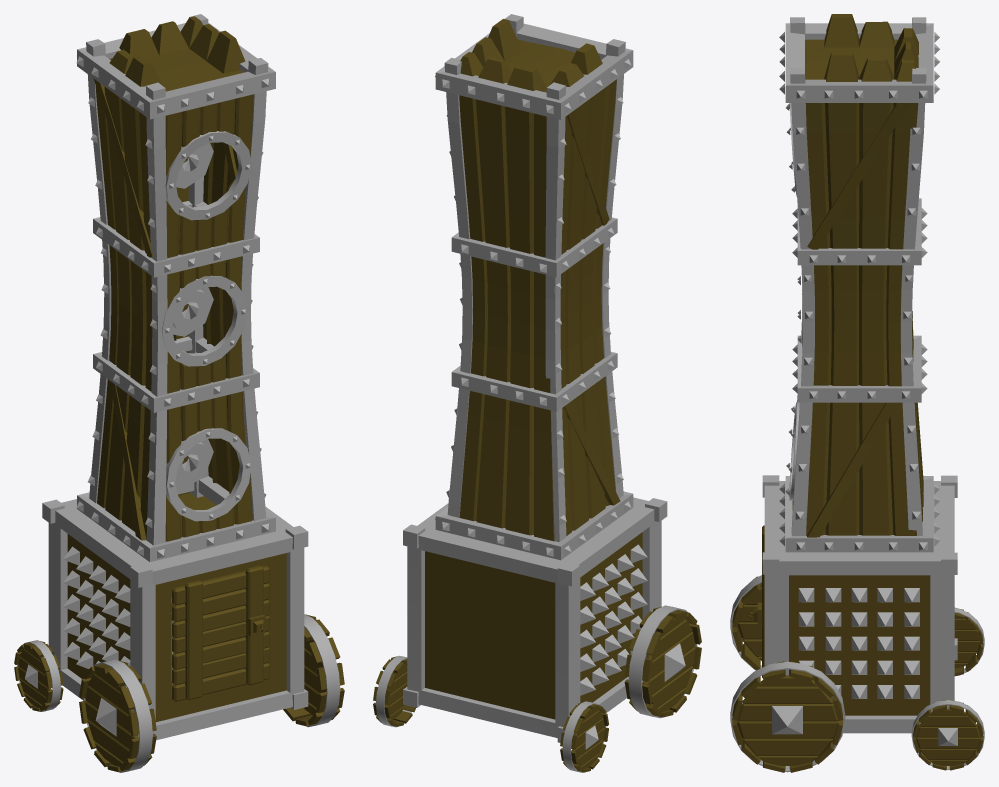
The model's file is Devils Tower.fbx.
3 views of the same model, side by side, from view 1: azimuth 30°, elevation 25°; view 2: azimuth 150°, elevation 25°; view 3: azimuth 270°, elevation 25° (orthographic). The views are drawn at different scales.
Parts seen in each view (by area): view 1: Metal6, Door; view 2: Metal6; view 3: Metal6, Door.
Part boxes in pixels (x1=…): Metal6: x1=14, y1=14, x2=344, y2=772; Door: x1=172, y1=565, x2=269, y2=701; Metal6: x1=373, y1=14, x2=701, y2=772; Metal6: x1=730, y1=14, x2=984, y2=772; Door: x1=748, y1=525, x2=764, y2=677.
Size of the model in its own units: 300 by 838 by 280.
